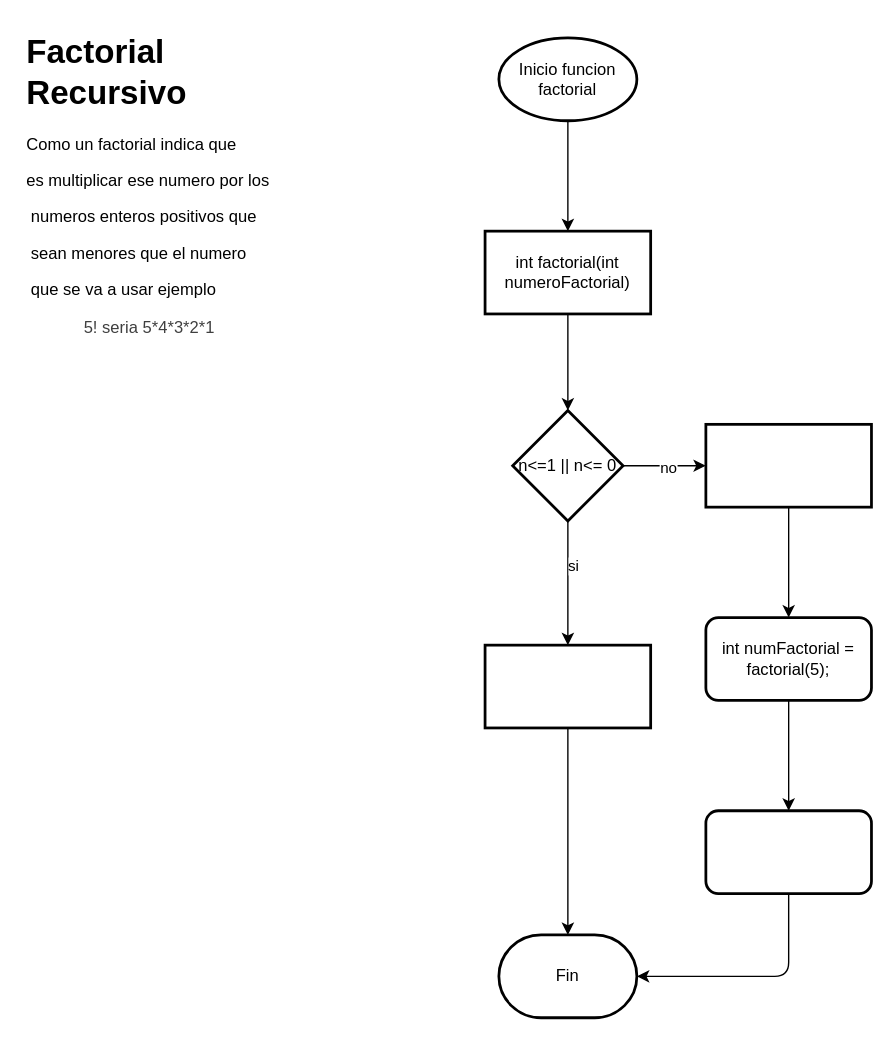
The diagram is 896 pixels wide and 1042 high, and some of its shapes have lost their labels. The centre of each missing label's shape, as x and y in pixels:
print(numFactorial);: (788,851)
return 1;: (567,686)
return n * funcion(n-1);: (788,465)
